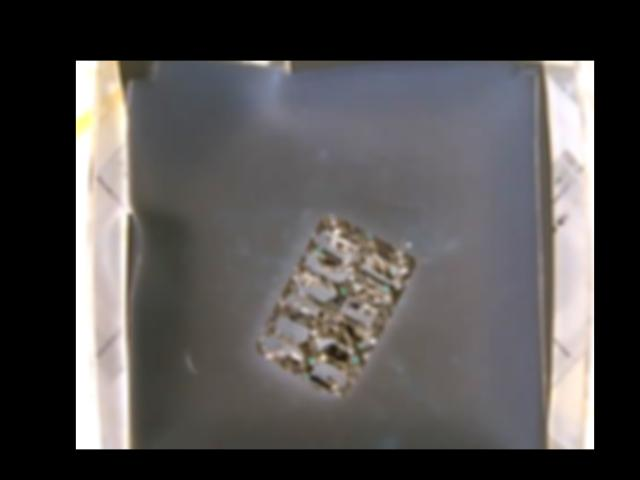Medicine: (257, 215, 417, 395)
